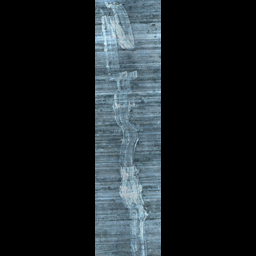d: (98, 1, 151, 256)
